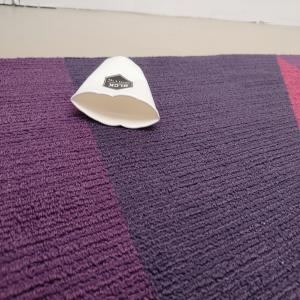Cup: (71, 56, 162, 131)
